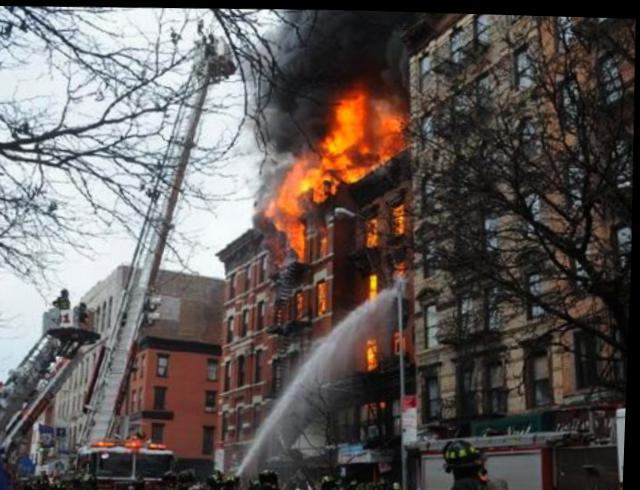fire: (253, 76, 421, 365)
